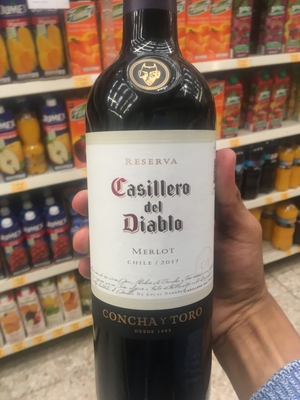casillero del diablo merlot: (78, 13, 238, 400)
